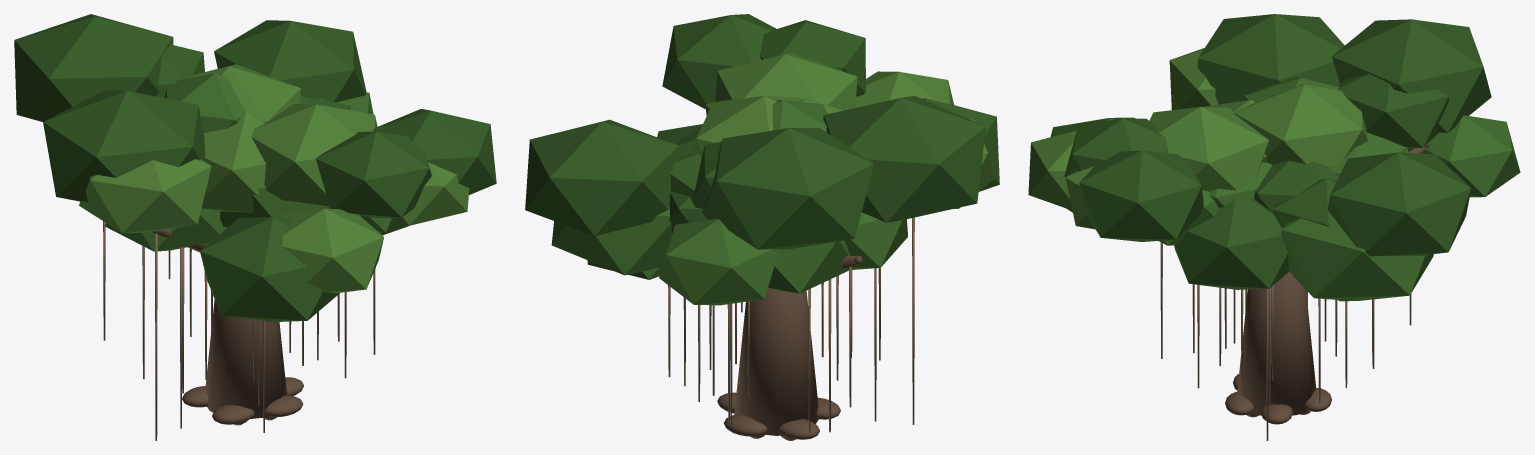
File: banyan.glb
The picture shows the model from 3 angles, left to right: view 1: azimuth 30°, elevation 25°; view 2: azimuth 150°, elevation 25°; view 3: azimuth 270°, elevation 25°; orthographic projection. The views are drawn at different scales.
Visible parts, largest first — view 1: Main; view 2: Main; view 3: Main.
Boxes of the visible parts, left/top/right/bottom form: Main: left=14, top=14, right=496, bottom=440; Main: left=525, top=14, right=999, bottom=440; Main: left=1028, top=14, right=1520, bottom=440.
Bounding box in the file's own units: 7.59 × 7.21 × 9.1.
